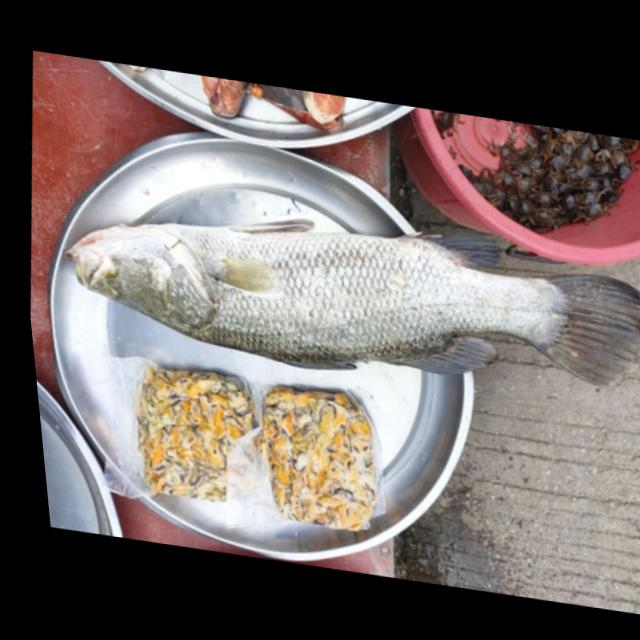Seabass: (46, 167, 640, 419)
